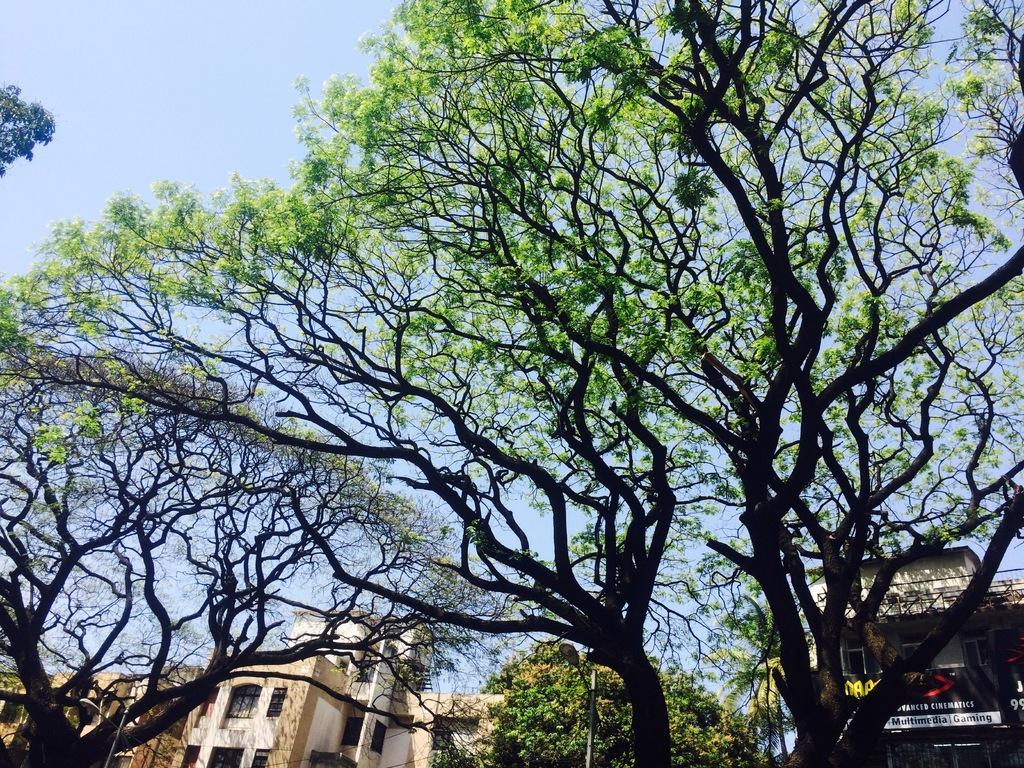Tree: (26, 12, 997, 762)
